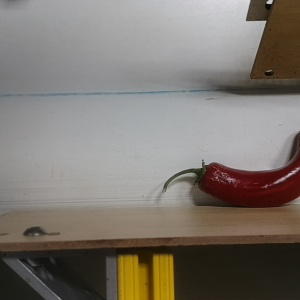Cut Point: (191, 158, 223, 192)
